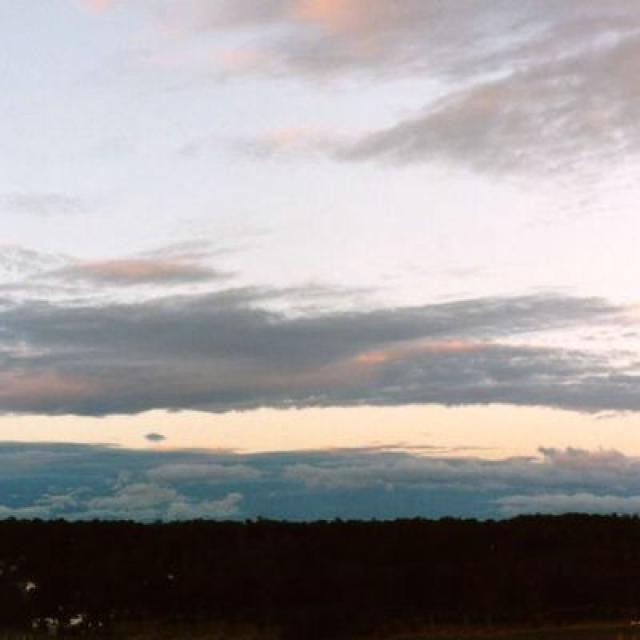St: (1, 78, 640, 453)
